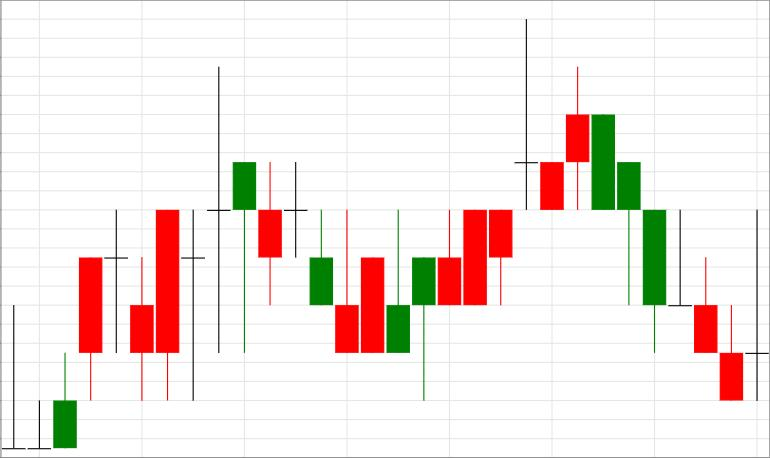hanging_man_fall: (131, 66, 256, 400)
inverse_hammer_rise: (233, 161, 359, 353)
